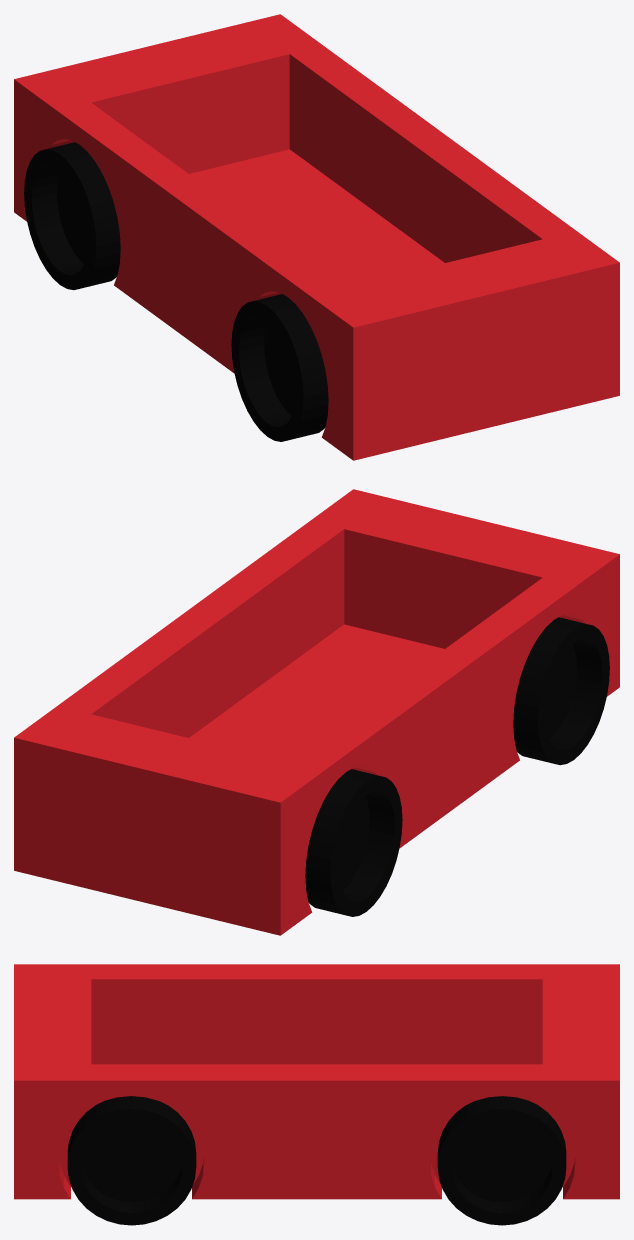
File: player_car.glb
The picture shows the model from 3 angles, top to bottom: view 1: azimuth 30°, elevation 25°; view 2: azimuth 150°, elevation 25°; view 3: azimuth 270°, elevation 25°; orthographic projection. The views are drawn at different scales.
Parts seen in each view (by area): view 1: Tire.001; view 2: Tire.001; view 3: Tire.001.
Part boxes in pixels (x1,y1,x2,y2): Tire.001: (14, 14, 619, 460); Tire.001: (14, 489, 619, 935); Tire.001: (14, 964, 619, 1225).
Size of the model in its own units: 4.9 by 2.34 by 9.41.
